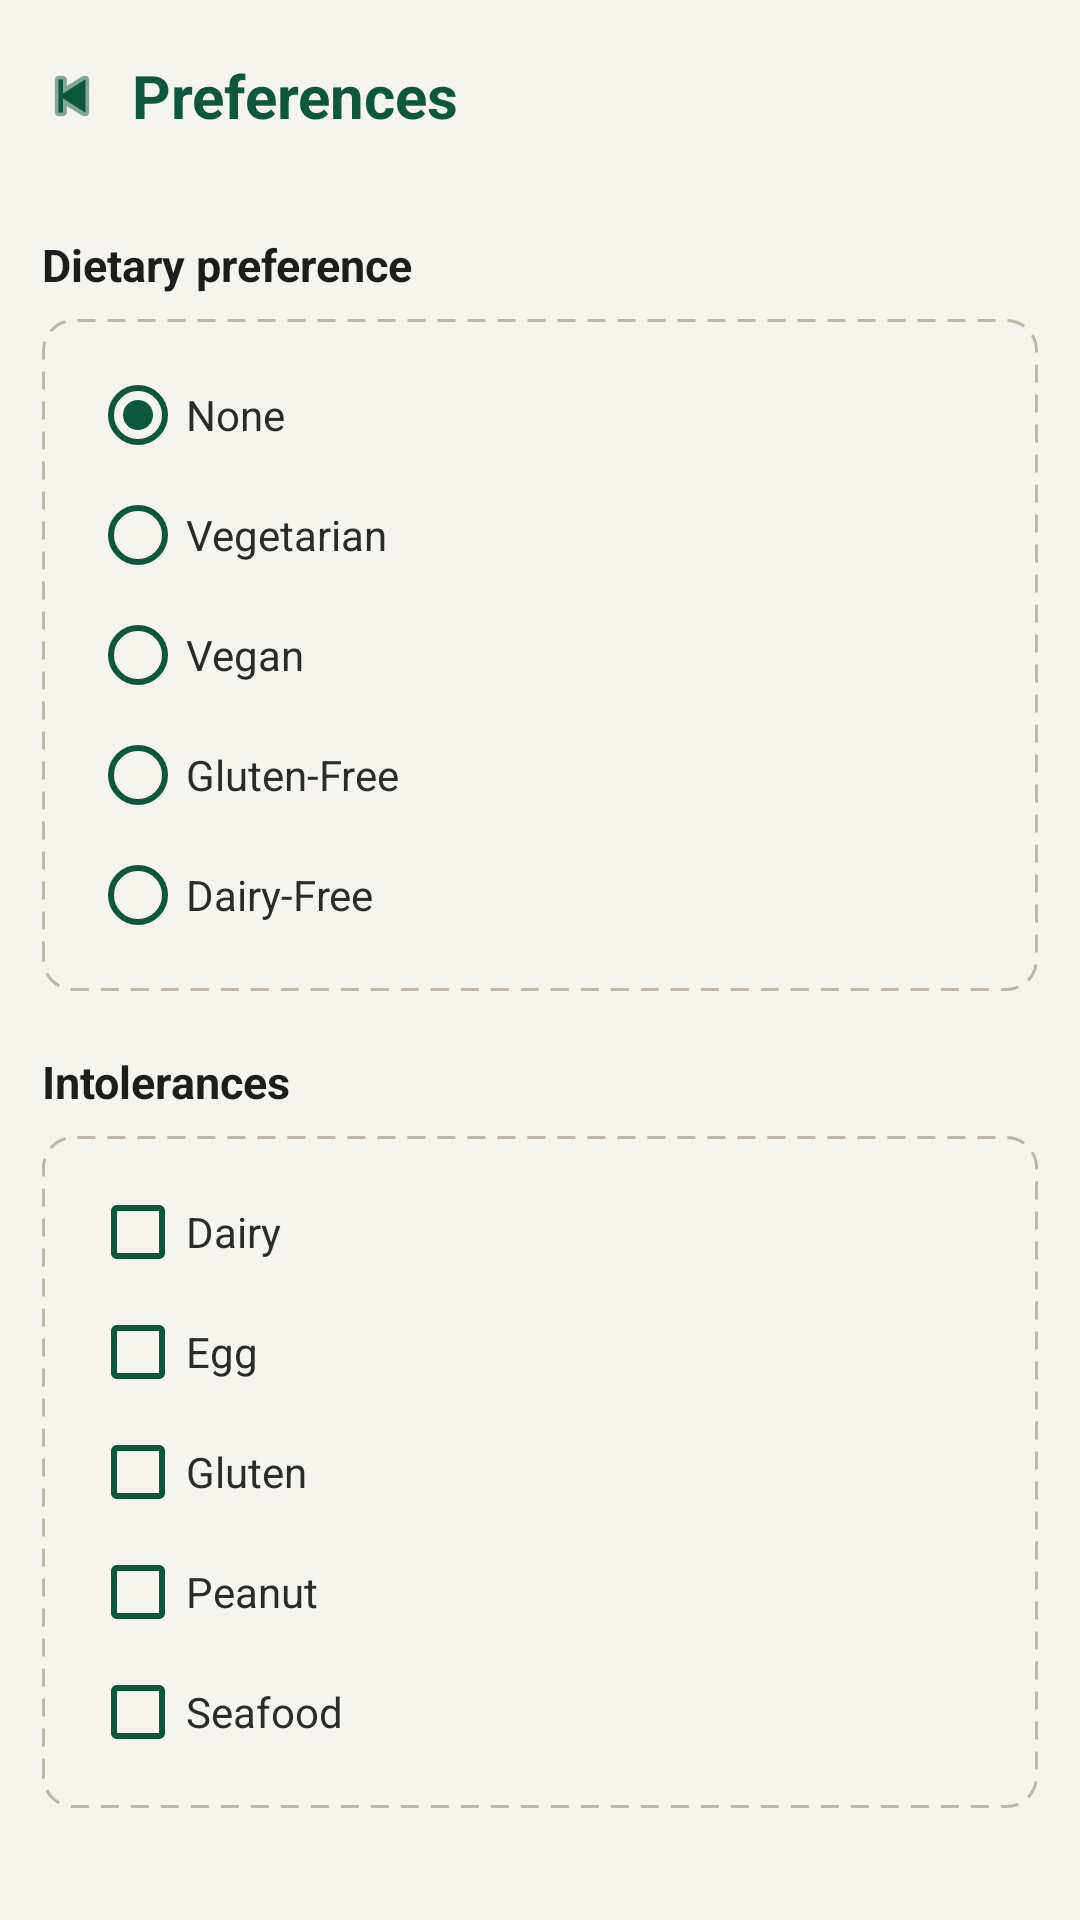

Icons on this 1080px×1920px Android screen, each with its box as (x1, y1, x2, y2):
Back: (55, 76, 89, 116)
